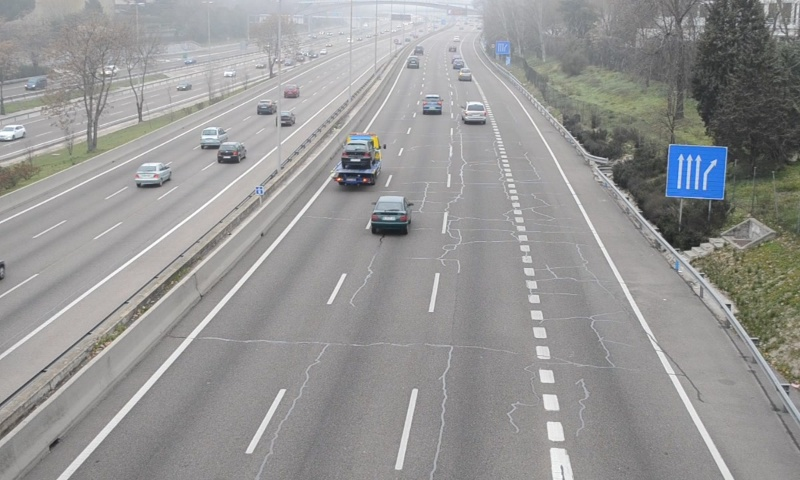car: (369, 194, 412, 230), (461, 101, 488, 124), (422, 94, 444, 116)
small-truck: (331, 134, 383, 188)
